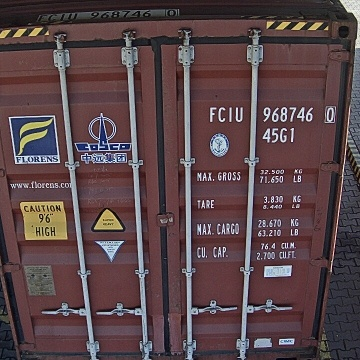serial_id: (210, 106, 335, 122)
